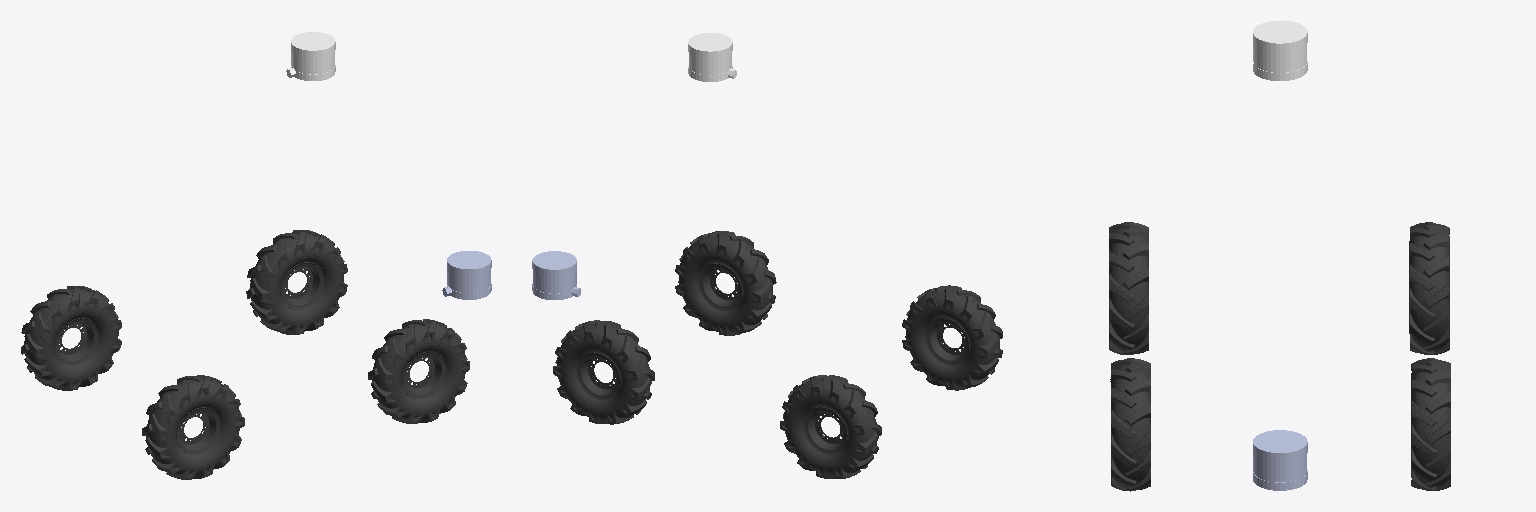
URDF robot description (urdfpatrolv1):
<?xml version="1.0" encoding="utf-8"?>
<!-- This URDF was automatically created by SolidWorks to URDF Exporter! Originally created by [author] ([email redacted]) 
     Commit Version: 1.5.1-0-g916b5db  Build Version: 1.5.7152.31018
     For more information, please see http://wiki.ros.org/sw_urdf_exporter -->
<robot
  name="urdfpatrolv1">
  <link
    name="base_link">
    <inertial>
      <origin
        xyz="0 0 0"
        rpy="0 0 0" />
      <mass
        value="60" />
      <inertia
        ixx="0.2844"
        ixy="0.045634"
        ixz="-0.00042222"
        iyy="0.4528"
        iyz="0.000122"
        izz="0.36594" />
    </inertial>
    <visual>
      <origin
        xyz="0 0 0"
        rpy="0 0 0" />
      <geometry>
        <mesh
          filename="package://urdfpatrolv1/meshes/base_link.STL" />
      </geometry>
      <material
        name="">
        <color
          rgba="0.79216 0.81961 0.93333 1" />
      </material>
    </visual>
    <collision>
      <origin
        xyz="0 0 0"
        rpy="0 0 0" />
      <geometry>
        <mesh
          filename="package://urdfpatrolv1/meshes/base_link.STL" />
      </geometry>
    </collision>
  </link>
  <link
    name="frontleft">
    <inertial>
      <origin
        xyz="-3.464E-06 4.8011E-06 0.00011186"
        rpy="0 0 0" />
      <mass
        value="1.1763" />
      <inertia
        ixx="0.0072471"
        ixy="2.8544E-07"
        ixz="1.5823E-07"
        iyy="0.0072464"
        iyz="-6.4818E-07"
        izz="0.012903" />
    </inertial>
    <visual>
      <origin
        xyz="0 0 0"
        rpy="0 0 0" />
      <geometry>
        <mesh
          filename="package://urdfpatrolv1/meshes/frontleft.STL" />
      </geometry>
      <material
        name="">
        <color
          rgba="0.29804 0.29804 0.29804 1" />
      </material>
    </visual>
    <collision>
      <origin
        xyz="0 0 0"
        rpy="0 0 0" />
      <geometry>
        <mesh
          filename="package://urdfpatrolv1/meshes/frontleft.STL" />
      </geometry>
    </collision>
  </link>
  <joint
    name="frontleftj"
    type="continuous">
    <origin
      xyz="0.72279 -0.74593 0.33375"
      rpy="1.5708 0.14752 0" />
    <parent
      link="base_link" />
    <child
      link="frontleft" />
    <axis
      xyz="0 0 1" />
  </joint>
  <link
    name="frontright">
    <inertial>
      <origin
        xyz="-3.7768E-06 4.7065E-06 0.00011187"
        rpy="0 0 0" />
      <mass
        value="1.1763" />
      <inertia
        ixx="0.0072471"
        ixy="2.8153E-07"
        ixz="1.5813E-07"
        iyy="0.0072464"
        iyz="-6.4918E-07"
        izz="0.012903" />
    </inertial>
    <visual>
      <origin
        xyz="0 0 0"
        rpy="0 0 0" />
      <geometry>
        <mesh
          filename="package://urdfpatrolv1/meshes/frontright.STL" />
      </geometry>
      <material
        name="">
        <color
          rgba="0.29804 0.29804 0.29804 1" />
      </material>
    </visual>
    <collision>
      <origin
        xyz="0 0 0"
        rpy="0 0 0" />
      <geometry>
        <mesh
          filename="package://urdfpatrolv1/meshes/frontright.STL" />
      </geometry>
    </collision>
  </link>
  <joint
    name="frontrightj"
    type="continuous">
    <origin
      xyz="0.72279 -1.343 0.33375"
      rpy="1.5708 -0.1477 0" />
    <parent
      link="base_link" />
    <child
      link="frontright" />
    <axis
      xyz="0 0 1" />
  </joint>
  <link
    name="rearleft">
    <inertial>
      <origin
        xyz="-3.464E-06 4.8012E-06 0.00011186"
        rpy="0 0 0" />
      <mass
        value="1.1763" />
      <inertia
        ixx="0.0072471"
        ixy="2.8544E-07"
        ixz="1.5823E-07"
        iyy="0.0072464"
        iyz="-6.4819E-07"
        izz="0.012903" />
    </inertial>
    <visual>
      <origin
        xyz="0 0 0"
        rpy="0 0 0" />
      <geometry>
        <mesh
          filename="package://urdfpatrolv1/meshes/rearleft.STL" />
      </geometry>
      <material
        name="">
        <color
          rgba="0.29804 0.29804 0.29804 1" />
      </material>
    </visual>
    <collision>
      <origin
        xyz="0 0 0"
        rpy="0 0 0" />
      <geometry>
        <mesh
          filename="package://urdfpatrolv1/meshes/rearleft.STL" />
      </geometry>
    </collision>
  </link>
  <joint
    name="rearleftj"
    type="continuous">
    <origin
      xyz="0.08279 -0.74978 0.33375"
      rpy="1.5708 0.14752 0" />
    <parent
      link="base_link" />
    <child
      link="rearleft" />
    <axis
      xyz="0 0 1" />
  </joint>
  <link
    name="rearright">
    <inertial>
      <origin
        xyz="-3.7765E-06 4.7067E-06 0.00011187"
        rpy="0 0 0" />
      <mass
        value="1.1763" />
      <inertia
        ixx="0.0072471"
        ixy="2.8153E-07"
        ixz="1.5813E-07"
        iyy="0.0072464"
        iyz="-6.4918E-07"
        izz="0.012903" />
    </inertial>
    <visual>
      <origin
        xyz="0 0 0"
        rpy="0 0 0" />
      <geometry>
        <mesh
          filename="package://urdfpatrolv1/meshes/rearright.STL" />
      </geometry>
      <material
        name="">
        <color
          rgba="0.29804 0.29804 0.29804 1" />
      </material>
    </visual>
    <collision>
      <origin
        xyz="0 0 0"
        rpy="0 0 0" />
      <geometry>
        <mesh
          filename="package://urdfpatrolv1/meshes/rearright.STL" />
      </geometry>
    </collision>
  </link>
  <joint
    name="rearrightj"
    type="continuous">
    <origin
      xyz="0.08279 -1.3469 0.33375"
      rpy="1.5708 -0.14733 0" />
    <parent
      link="base_link" />
    <child
      link="rearright" />
    <axis
      xyz="0 0 1" />
  </joint>
  <link
    name="lidarlow">
    <inertial>
      <origin
        xyz="2.2204E-16 0.00042266 -0.041213"
        rpy="0 0 0" />
      <mass
        value="0.76222" />
      <inertia
        ixx="0.00098965"
        ixy="5.4768E-24"
        ixz="3.2923E-19"
        iyy="0.0009897"
        iyz="1.0607E-19"
        izz="0.0011048" />
    </inertial>
    <visual>
      <origin
        xyz="0 0 0"
        rpy="0 0 0" />
      <geometry>
        <mesh
          filename="package://urdfpatrolv1/meshes/lidarlow.STL" />
      </geometry>
      <material
        name="">
        <color
          rgba="0.79216 0.81961 0.93333 1" />
      </material>
    </visual>
    <collision>
      <origin
        xyz="0 0 0"
        rpy="0 0 0" />
      <geometry>
        <mesh
          filename="package://urdfpatrolv1/meshes/lidarlow.STL" />
      </geometry>
    </collision>
  </link>
  <joint
    name="lidarlowj"
    type="fixed">
    <origin
      xyz="1.0353 -1.0464 0.35995"
      rpy="3.1416 0 -1.5708" />
    <parent
      link="base_link" />
    <child
      link="lidarlow" />
    <axis
      xyz="0 0 0" />
  </joint>
  <link
    name="lidarhigh">
    <inertial>
      <origin
        xyz="2.2204E-16 0.00042266 -0.041213"
        rpy="0 0 0" />
      <mass
        value="0.76" />
      <inertia
        ixx="0.00098965"
        ixy="5.4768E-24"
        ixz="3.2923E-19"
        iyy="0.0009897"
        iyz="1.0607E-19"
        izz="0.0011048" />
    </inertial>
    <visual>
      <origin
        xyz="0 0 0"
        rpy="0 0 0" />
      <geometry>
        <mesh
          filename="package://urdfpatrolv1/meshes/lidarhigh.STL" />
      </geometry>
      <material
        name="">
        <color
          rgba="1 1 1 1" />
      </material>
    </visual>
    <collision>
      <origin
        xyz="0 0 0"
        rpy="0 0 0" />
      <geometry>
        <mesh
          filename="package://urdfpatrolv1/meshes/lidarhigh.STL" />
      </geometry>
    </collision>
  </link>
  <joint
    name="lidarhighj"
    type="fixed">
    <origin
      xyz="0.59471 -1.0464 1.0529"
      rpy="3.1416 0 -1.5708" />
    <parent
      link="base_link" />
    <child
      link="lidarhigh" />
    <axis
      xyz="0 0 0" />
  </joint>
</robot>

--- Facts derived from the render (not from the file) ---
3 views of the same robot in one strip: view 1: azimuth 30°, elevation 25°; view 2: azimuth 150°, elevation 25°; view 3: azimuth 270°, elevation 25° (orthographic).
Model urdfpatrolv1 with 7 links and 6 joints (4 continuous, 2 fixed), rooted at base_link, posed every joint at zero.
Links seen in each view (by area): view 1: frontleft, rearright, rearleft, frontright, lidarlow, lidarhigh; view 2: rearleft, frontright, frontleft, rearright, lidarlow, lidarhigh; view 3: rearleft, frontright, rearright, frontleft, lidarlow, lidarhigh.
Link boxes in pixels (box(x1,y1,x2,y2)): frontleft: box(246, 230, 347, 334); rearright: box(142, 375, 244, 479); rearleft: box(21, 286, 121, 390); frontright: box(368, 319, 469, 423); lidarlow: box(442, 251, 491, 299); lidarhigh: box(286, 32, 335, 80); rearleft: box(780, 375, 881, 478); frontright: box(675, 231, 776, 335); frontleft: box(553, 320, 654, 424); rearright: box(902, 285, 1002, 390); lidarlow: box(532, 251, 580, 299); lidarhigh: box(688, 33, 736, 81); rearleft: box(1409, 222, 1449, 354); frontright: box(1110, 358, 1150, 491); rearright: box(1109, 222, 1148, 354); frontleft: box(1411, 358, 1450, 490); lidarlow: box(1253, 430, 1307, 490); lidarhigh: box(1253, 20, 1307, 80).
Bounding box of the posed robot: 1.14 × 0.6818 × 0.9342 m (x, y, z).
6 mesh visuals loaded from 7 distinct referenced files (6 binary STL); not drawn: 1 (reference not matched to a file when rendering).